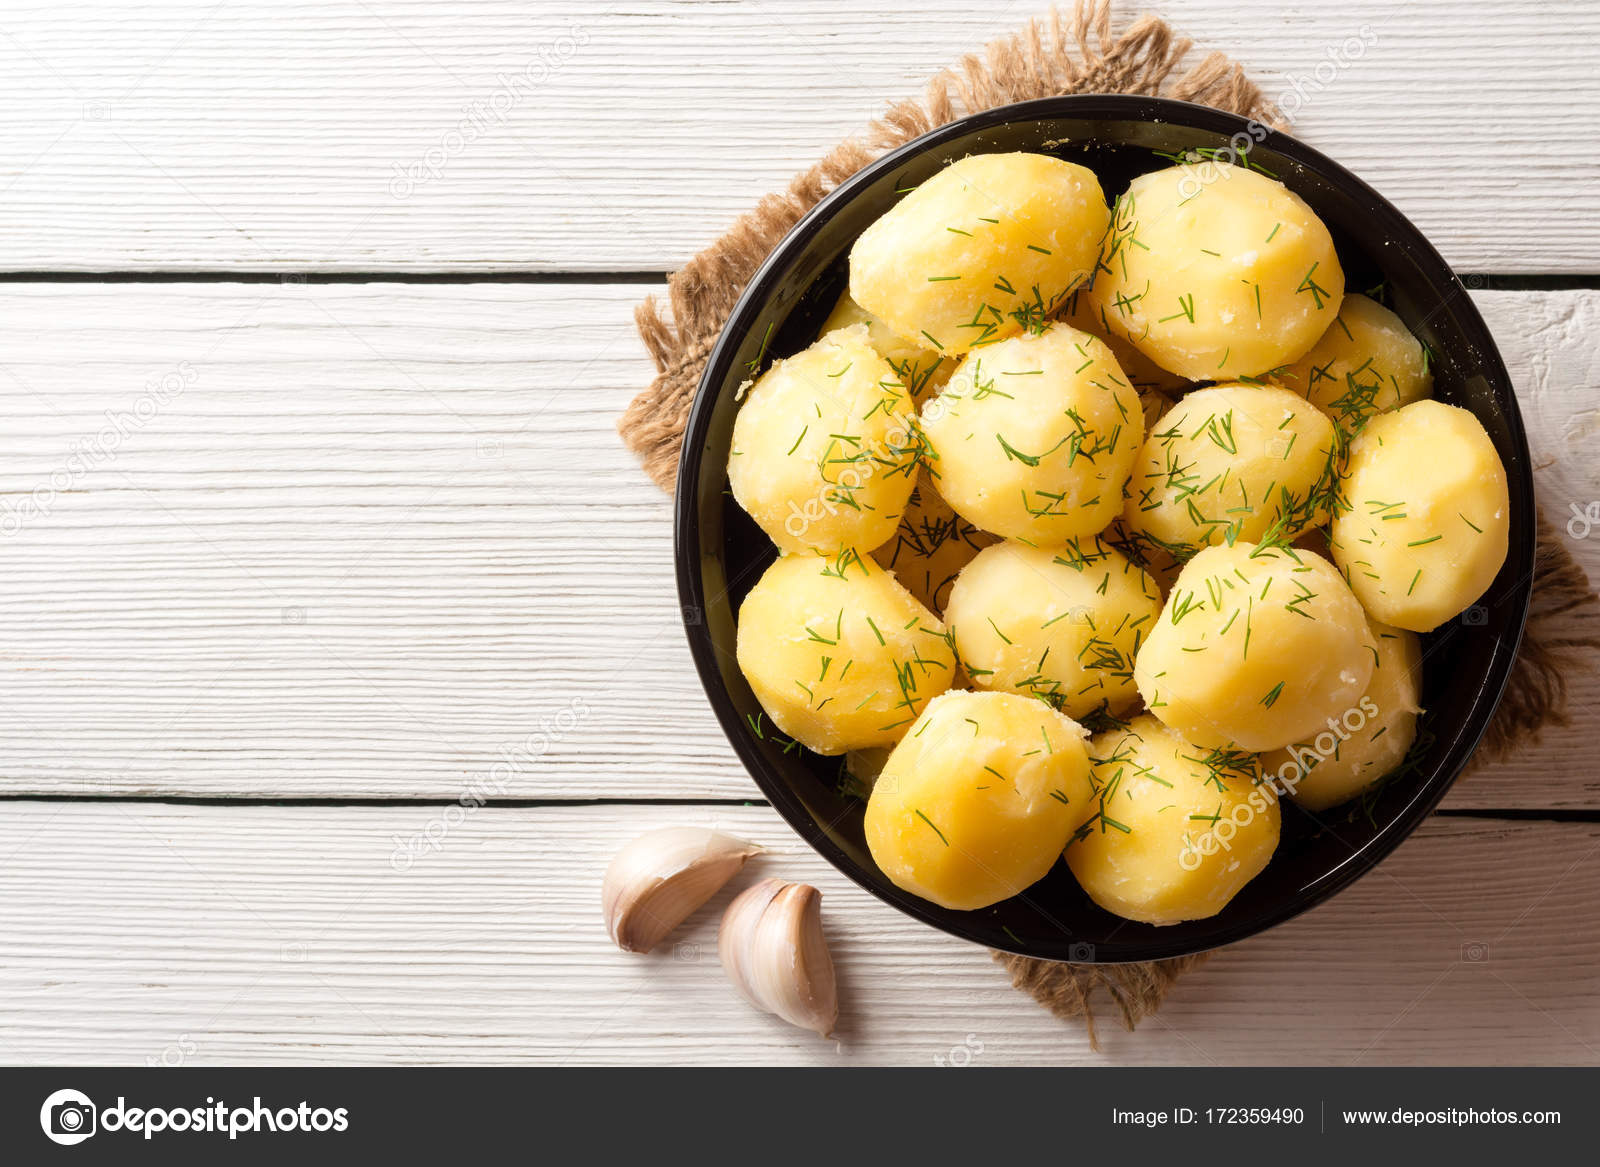boiled potatoes: (888, 215, 1308, 859)
